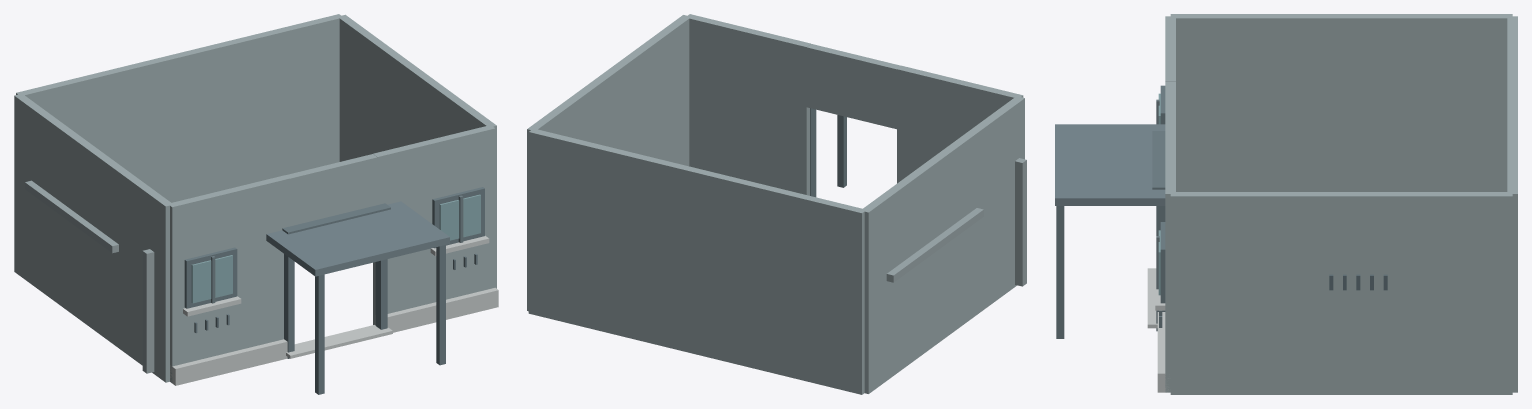
Rendered from DF_ART_HarborAnnex_Walls.glb.
3 views of the same model, side by side, from view 1: azimuth 30°, elevation 25°; view 2: azimuth 150°, elevation 25°; view 3: azimuth 270°, elevation 25° (orthographic). The views are drawn at different scales.
Parts seen in each view (by area): view 1: rear_wall_0, side_wall_1, front_panel_2, front_panel_13, side_wall_12, loading_canopy_28, door_lintel_23, foundation_7, foundation_18, downspout_33, window_glazing_4, window_glazing_15 (+10 smaller); view 2: rear_wall_0, side_wall_1, front_panel_13, door_lintel_23, side_wall_12, front_panel_2, downspout_33, pipe_32, canopy_post_30, door_jamb_26; view 3: side_wall_12, side_wall_1, loading_canopy_28, rear_wall_0, front_panel_13, canopy_post_30, door_lintel_23, door_cap_24, front_panel_2, foundation_18, threshold_27, window_frame_14.
Part boxes in pixels (left/top/right/bottom): rear_wall_0: left=16, top=14, right=343, bottom=202; side_wall_1: left=14, top=93, right=173, bottom=382; front_panel_2: left=170, top=175, right=289, bottom=382; front_panel_13: left=373, top=125, right=495, bottom=324; side_wall_12: left=338, top=14, right=496, bottom=288; loading_canopy_28: left=266, top=201, right=449, bottom=276; door_lintel_23: left=170, top=129, right=495, bottom=265; foundation_7: left=170, top=339, right=287, bottom=385; foundation_18: left=375, top=287, right=498, bottom=332; downspout_33: left=142, top=249, right=154, bottom=373; window_glazing_4: left=191, top=255, right=232, bottom=303; window_glazing_15: left=439, top=194, right=480, bottom=240; rear_wall_0: left=528, top=128, right=866, bottom=394; side_wall_1: left=861, top=96, right=1024, bottom=393; front_panel_13: left=688, top=14, right=810, bottom=195; door_lintel_23: left=690, top=20, right=1022, bottom=142; side_wall_12: left=527, top=15, right=691, bottom=311; front_panel_2: left=897, top=66, right=1023, bottom=183; downspout_33: left=1015, top=158, right=1026, bottom=286; pipe_32: left=886, top=208, right=983, bottom=282; canopy_post_30: left=837, top=115, right=846, bottom=187; door_jamb_26: left=810, top=108, right=816, bottom=197; side_wall_12: left=1170, top=192, right=1512, bottom=394; side_wall_1: left=1170, top=14, right=1512, bottom=191; loading_canopy_28: left=1055, top=124, right=1165, bottom=205; rear_wall_0: left=1507, top=16, right=1517, bottom=392; front_panel_13: left=1165, top=129, right=1175, bottom=392; canopy_post_30: left=1056, top=206, right=1064, bottom=338; door_lintel_23: left=1165, top=81, right=1175, bottom=259; door_cap_24: left=1152, top=131, right=1165, bottom=189; front_panel_2: left=1165, top=16, right=1175, bottom=81; foundation_18: left=1157, top=312, right=1168, bottom=392; threshold_27: left=1147, top=268, right=1157, bottom=328; window_frame_14: left=1160, top=222, right=1165, bottom=303.
Size of the model in its own units: 10.22 by 5 by 10.56.
